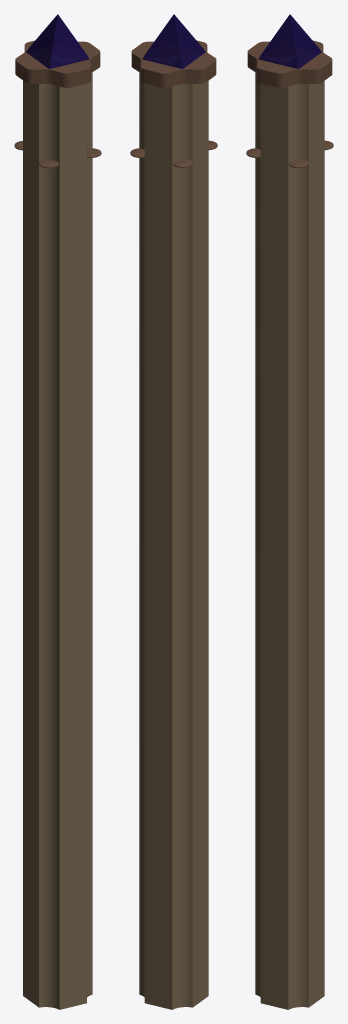
The model's file is ConeBuilding.fbx.
3 views of the same model, side by side, from view 1: azimuth 30°, elevation 25°; view 2: azimuth 150°, elevation 25°; view 3: azimuth 330°, elevation 25° (orthographic).
Parts seen in each view (by area): view 1: pSphere10; view 2: pSphere10; view 3: pSphere10.
Boxes of the visible parts, bbox=[...] form: pSphere10: bbox=[14, 14, 101, 1009]; pSphere10: bbox=[130, 14, 217, 1009]; pSphere10: bbox=[246, 14, 333, 1009].
Bounding box in the file's own units: 12.41 × 158 × 12.41.
